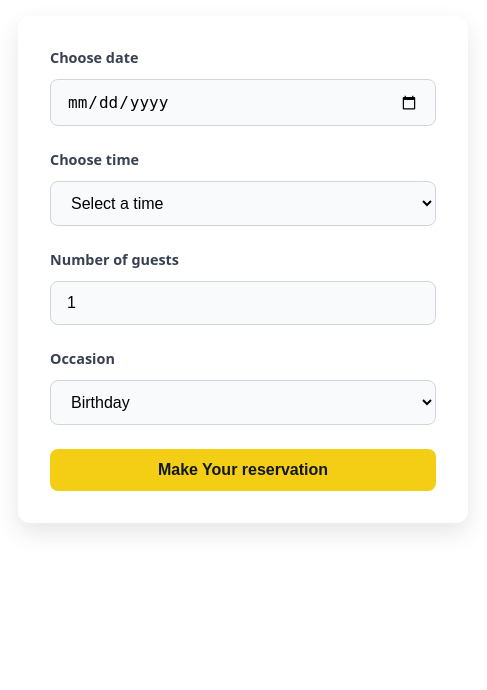
Test: Invalid form states › shows a minimum error when the number of guests is less than 1
This screenshot has width=487, height=690.
Type "0" into the number field labelled "Number of guests" at (243, 303), box [50,281,436,325]
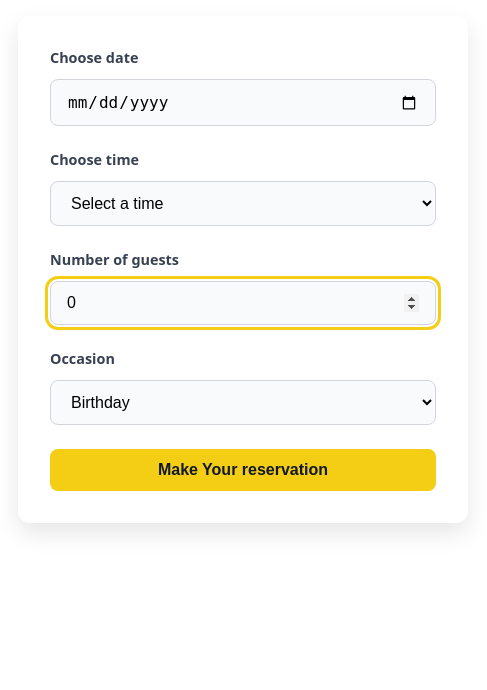
Submit the form named "Make Your reservation"
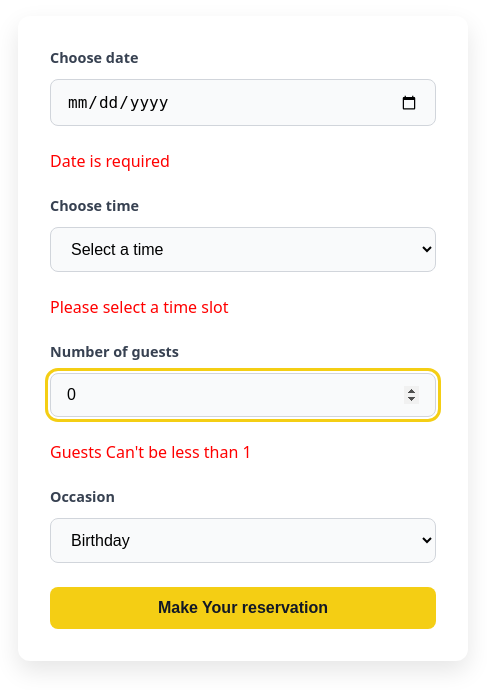
Expected: the text "Guests Can't be less than 1" is shown, [50,441,252,463]
